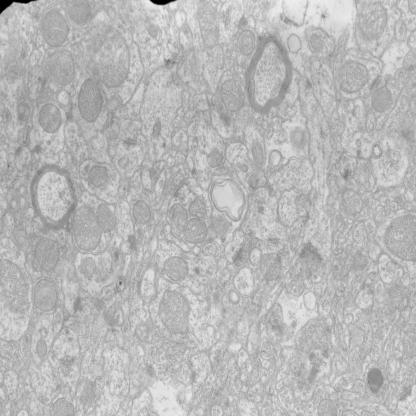mitochondria: (96, 27, 131, 89), (382, 212, 416, 264), (158, 288, 194, 336), (0, 260, 31, 315), (72, 204, 102, 252), (356, 1, 390, 39), (78, 78, 105, 122), (41, 9, 71, 48), (197, 2, 220, 51), (47, 48, 76, 86), (338, 60, 369, 93), (35, 237, 62, 272), (33, 277, 58, 313), (160, 254, 192, 282), (222, 78, 247, 112), (38, 102, 62, 134), (96, 201, 118, 234), (259, 252, 283, 282), (183, 218, 209, 244), (167, 201, 188, 232), (65, 0, 91, 25), (341, 190, 364, 218), (371, 85, 393, 114), (234, 28, 256, 56), (87, 163, 110, 189), (131, 199, 152, 227), (187, 194, 209, 218), (51, 396, 76, 416), (251, 141, 266, 169), (316, 398, 339, 416), (207, 150, 223, 168), (310, 32, 324, 52), (36, 340, 49, 357)
